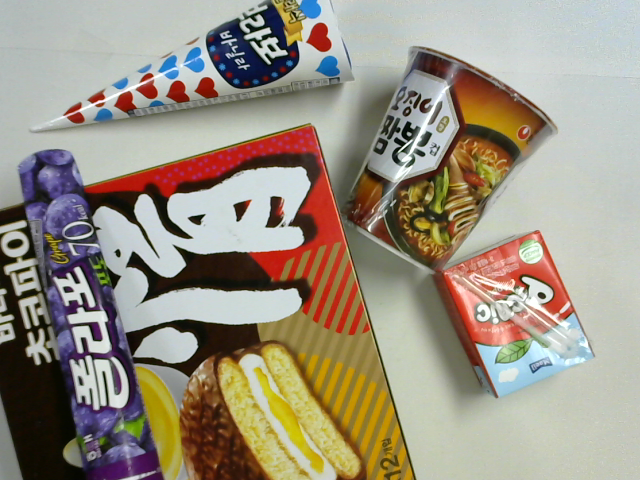Bravo_Cone_(Banila)_CVS: (27, 6, 359, 130)
Choco_Pie_Banana: (1, 124, 422, 480)
Ojjam: (343, 48, 561, 272)
Picnic_Apple: (433, 236, 599, 400)
Polapo_Grape: (15, 150, 168, 480)
